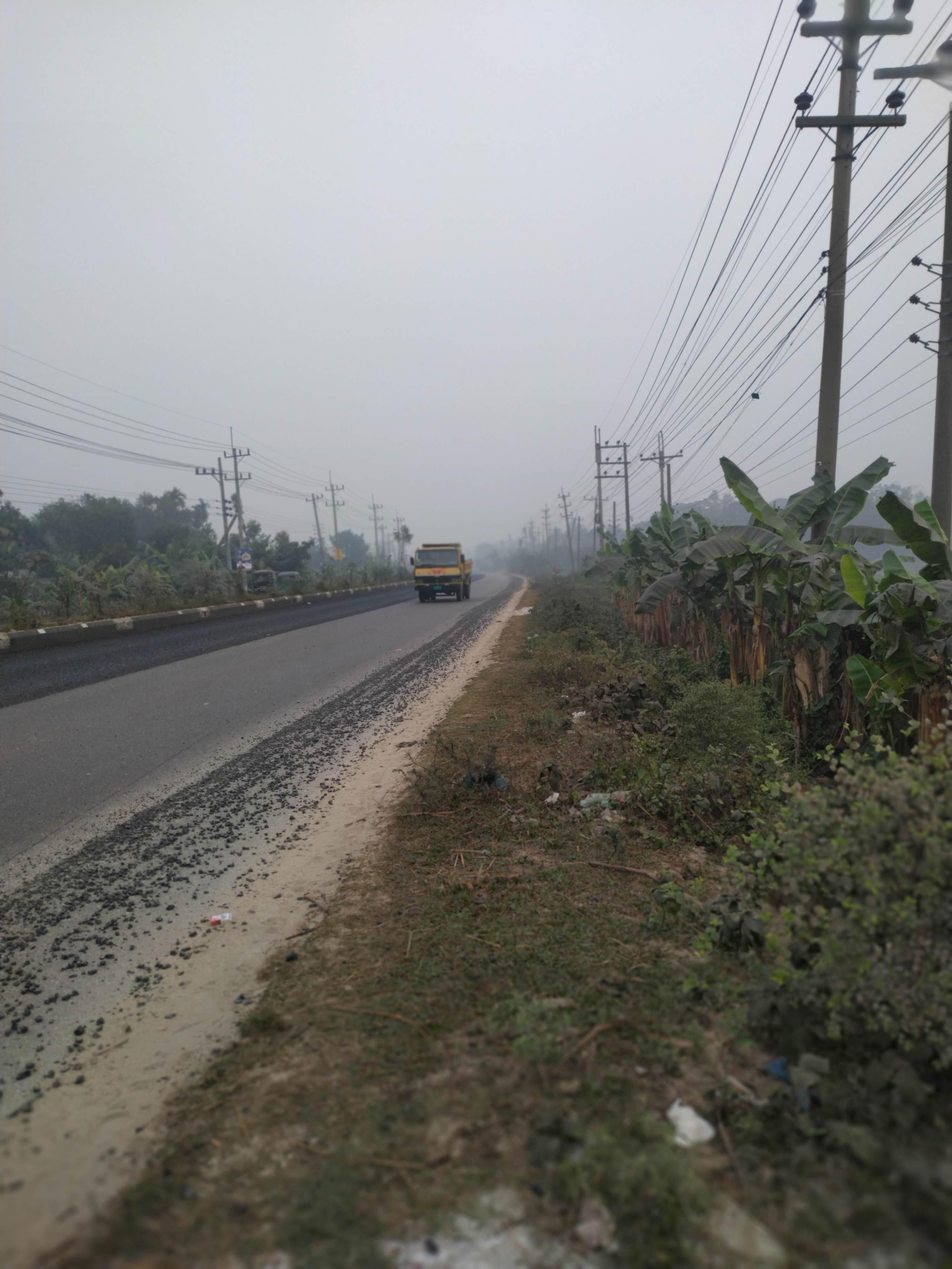Truck: (387, 525, 493, 624)
